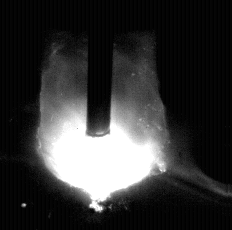arame: (88, 0, 112, 136)
poca: (36, 0, 169, 230)
